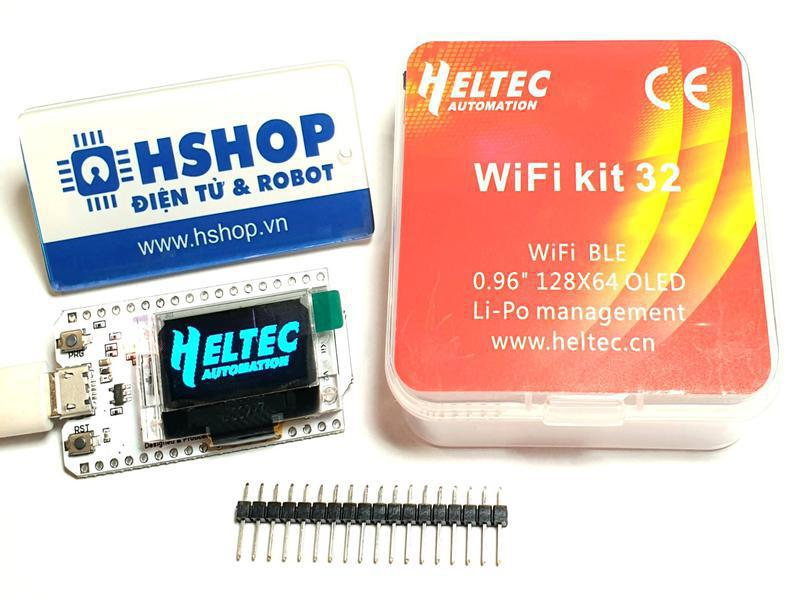Heltec_ESP32_Lora: (55, 262, 355, 482)
